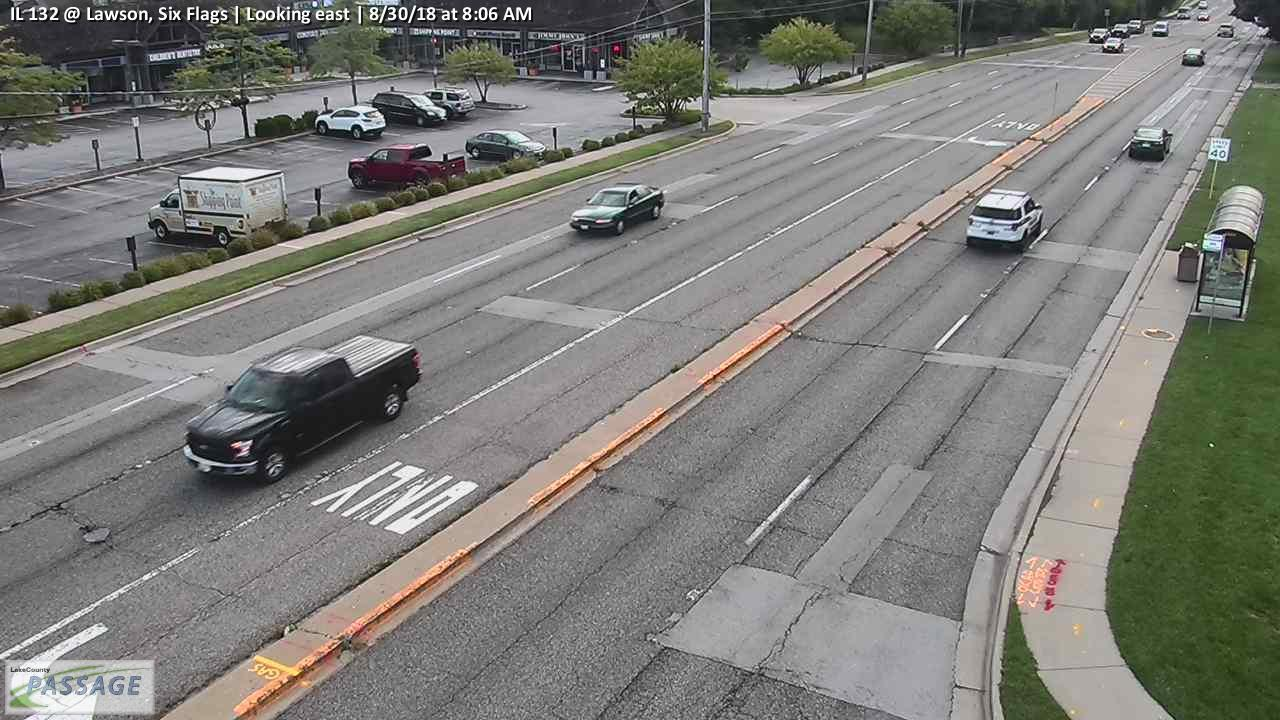SUV: (968, 189, 1045, 251), (372, 91, 447, 128), (314, 105, 386, 141), (413, 87, 475, 120), (1151, 21, 1169, 37), (1216, 23, 1234, 38), (1090, 28, 1110, 41), (1175, 5, 1192, 20), (1112, 23, 1130, 37), (1127, 20, 1143, 33)
Sedan: (569, 181, 664, 235), (467, 129, 547, 165), (1129, 126, 1173, 160), (1182, 47, 1206, 64), (1103, 37, 1125, 52), (1197, 11, 1208, 20), (1199, 1, 1208, 8)
Truck: (183, 334, 422, 477), (150, 166, 288, 247), (348, 145, 465, 190)
